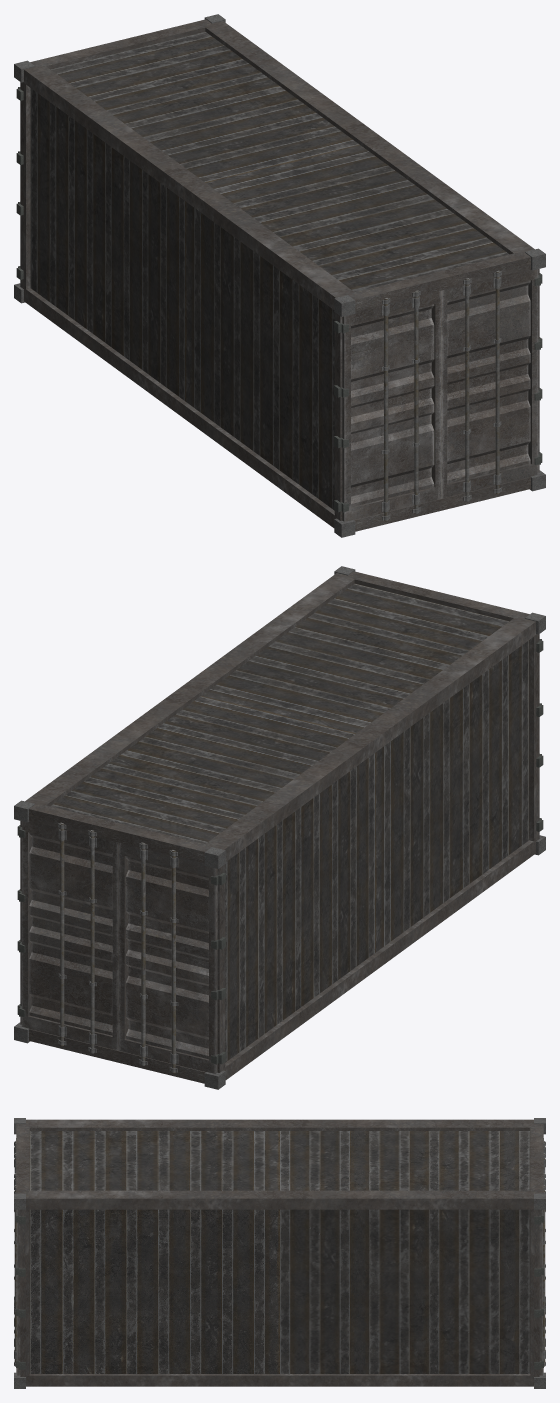
The model's file is storage_crate01.fbx.
3 views of the same model, one above another, from view 1: azimuth 30°, elevation 25°; view 2: azimuth 150°, elevation 25°; view 3: azimuth 270°, elevation 25° (orthographic). The views are drawn at different scales.
Parts seen in each view (by area): view 1: storage_crate01; view 2: storage_crate01; view 3: storage_crate01.
Part boxes in pixels (bbox=[...]): storage_crate01: bbox=[14, 14, 545, 537]; storage_crate01: bbox=[14, 566, 545, 1089]; storage_crate01: bbox=[14, 1118, 545, 1388].
Size of the model in its own units: 259 by 283 by 717.
